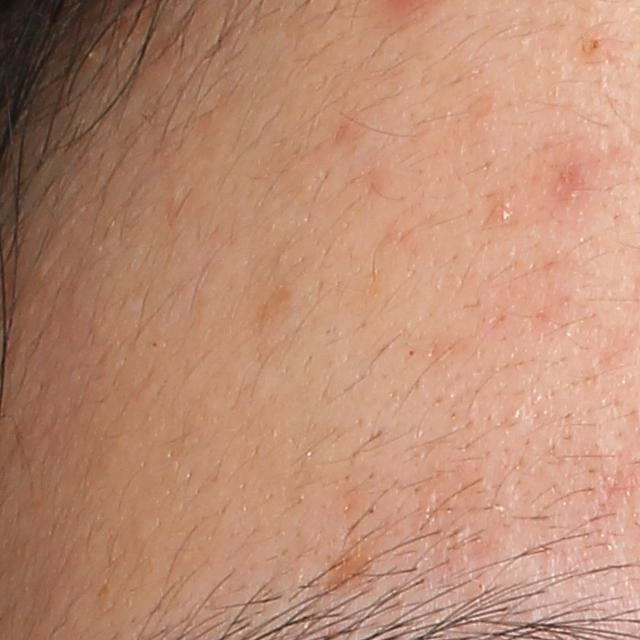comedo: (490, 203, 514, 226)
